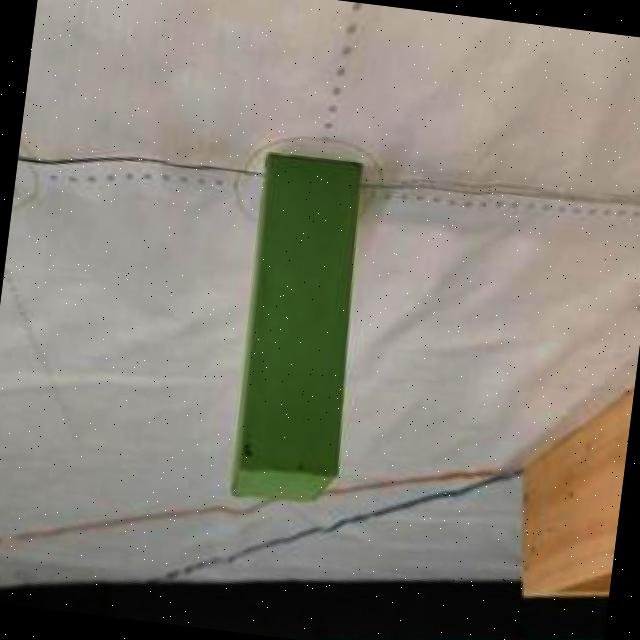greenbox: (224, 146, 383, 514)
